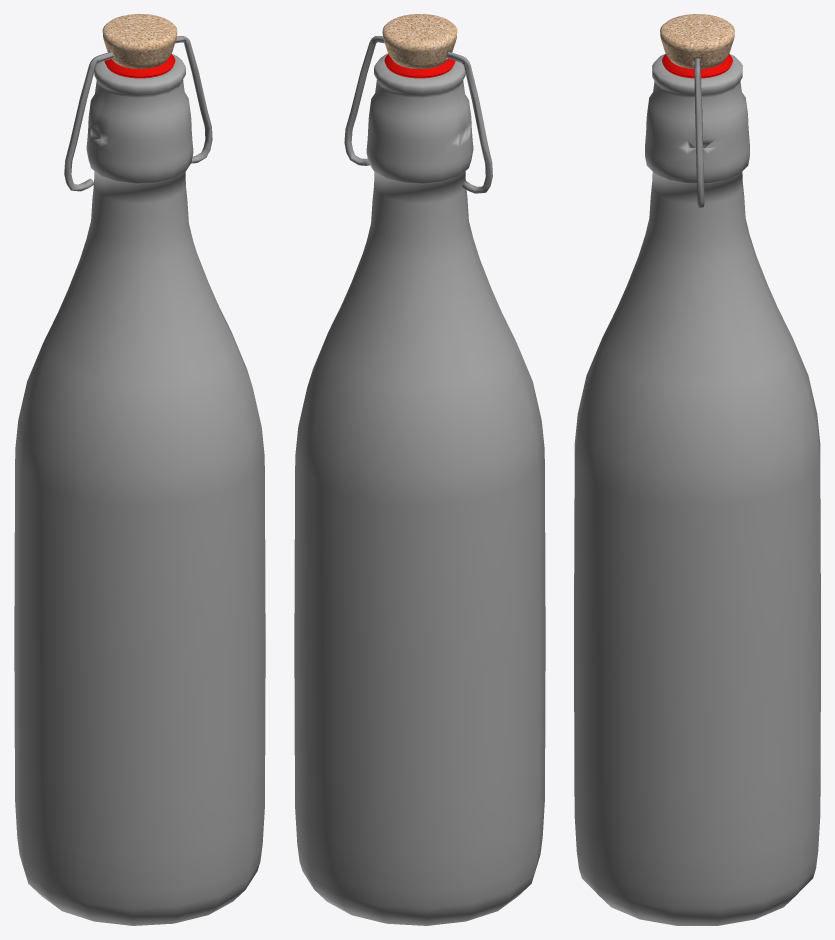
File: vinegar.fbx
The picture shows the model from 3 angles, left to right: view 1: azimuth 30°, elevation 25°; view 2: azimuth 150°, elevation 25°; view 3: azimuth 270°, elevation 25°; orthographic projection.
Parts seen in each view (by area): view 1: vinegar1; view 2: vinegar1; view 3: vinegar1.
Part boxes in pixels (x1,y1,x2,y2): vinegar1: (14,14,265,925); vinegar1: (294,14,545,925); vinegar1: (574,14,820,925).
Size of the model in its own units: 12.51 by 47.84 by 12.51.
Materials: 5 (1 with a texture image).
